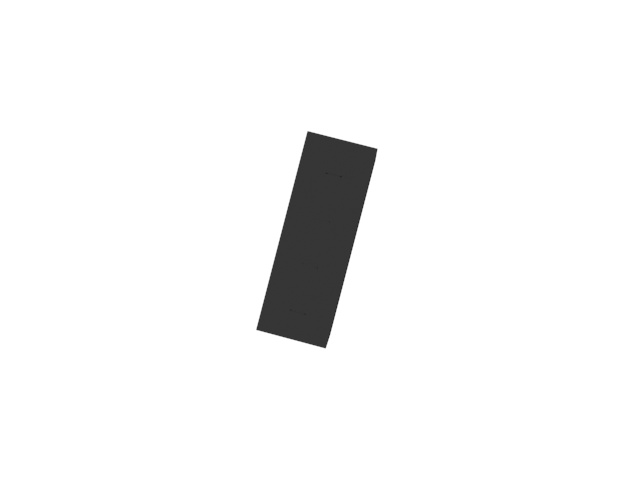file_cabinet: (257, 129, 384, 352)
